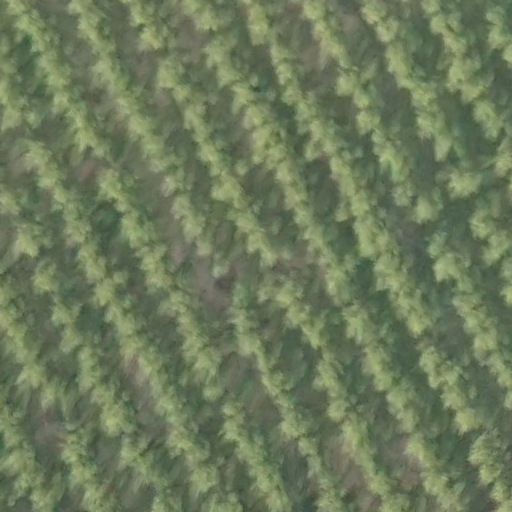eucalipto: (396, 283, 442, 332), (151, 48, 197, 95), (312, 23, 354, 68), (421, 342, 460, 390), (339, 302, 380, 344), (429, 15, 474, 53), (355, 217, 397, 257), (376, 137, 414, 178), (472, 438, 509, 480), (408, 431, 452, 466), (116, 430, 158, 466), (333, 185, 378, 218), (300, 309, 336, 349), (187, 334, 222, 373), (220, 405, 258, 440), (211, 173, 249, 207), (94, 57, 133, 90), (260, 363, 299, 396), (247, 233, 287, 265), (249, 6, 285, 41), (40, 52, 78, 85), (237, 433, 276, 465), (15, 221, 51, 255), (21, 137, 58, 170), (283, 406, 322, 437), (85, 482, 125, 512), (313, 353, 348, 387), (53, 186, 88, 220), (99, 402, 136, 434), (63, 324, 101, 355), (34, 262, 69, 295), (382, 40, 416, 73), (434, 127, 467, 160), (341, 421, 378, 450), (274, 156, 310, 185), (455, 406, 493, 433), (50, 290, 81, 323), (191, 463, 226, 492), (425, 468, 460, 497), (231, 81, 267, 109), (436, 252, 468, 283), (364, 339, 397, 369), (62, 431, 95, 461), (157, 382, 186, 416), (229, 206, 264, 234), (149, 487, 188, 512), (364, 465, 400, 492), (130, 112, 162, 142), (75, 123, 107, 153), (341, 70, 373, 100), (101, 170, 134, 199), (276, 58, 306, 89), (136, 345, 169, 373), (217, 58, 252, 84), (410, 192, 440, 222), (22, 358, 51, 389), (328, 394, 360, 422), (162, 290, 194, 318), (137, 244, 169, 271), (298, 1, 337, 23), (171, 421, 201, 449), (318, 470, 349, 497), (473, 99, 504, 126), (245, 100, 275, 127), (63, 217, 93, 244), (207, 249, 233, 280), (236, 332, 269, 356), (471, 209, 498, 238), (173, 192, 203, 218), (389, 385, 415, 415), (198, 137, 228, 163), (297, 95, 324, 123), (297, 433, 324, 460), (359, 106, 387, 132), (453, 171, 481, 197), (411, 81, 440, 106), (196, 383, 229, 402), (78, 346, 103, 368)
